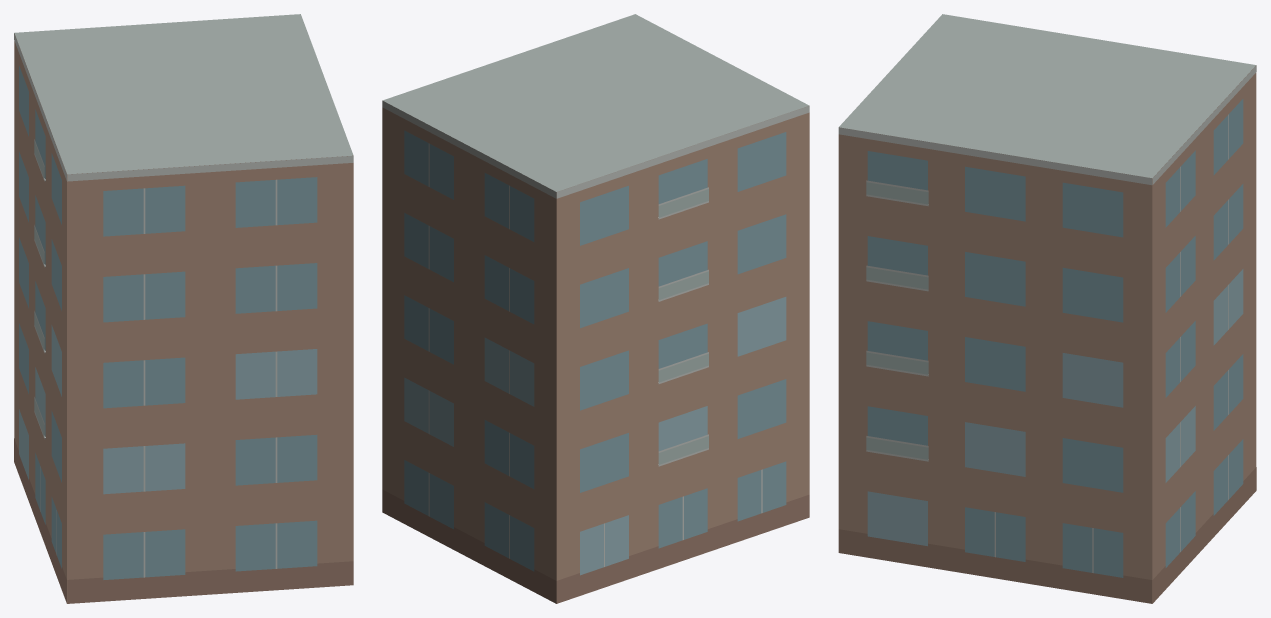
File: survey-upis-32868933.glb
The picture shows the model from 3 angles, left to right: view 1: azimuth 30°, elevation 25°; view 2: azimuth 150°, elevation 25°; view 3: azimuth 270°, elevation 25°; orthographic projection. The views are drawn at different scales.
Visible parts, largest first — view 1: survey-upis-32868933.tmp; view 2: survey-upis-32868933.tmp; view 3: survey-upis-32868933.tmp.
Boxes of the visible parts, bbox=[...] form: survey-upis-32868933.tmp: bbox=[14, 14, 353, 603]; survey-upis-32868933.tmp: bbox=[382, 14, 809, 603]; survey-upis-32868933.tmp: bbox=[838, 14, 1256, 603].
Size of the model in its own units: 12.18 by 14.7 by 13.09.
